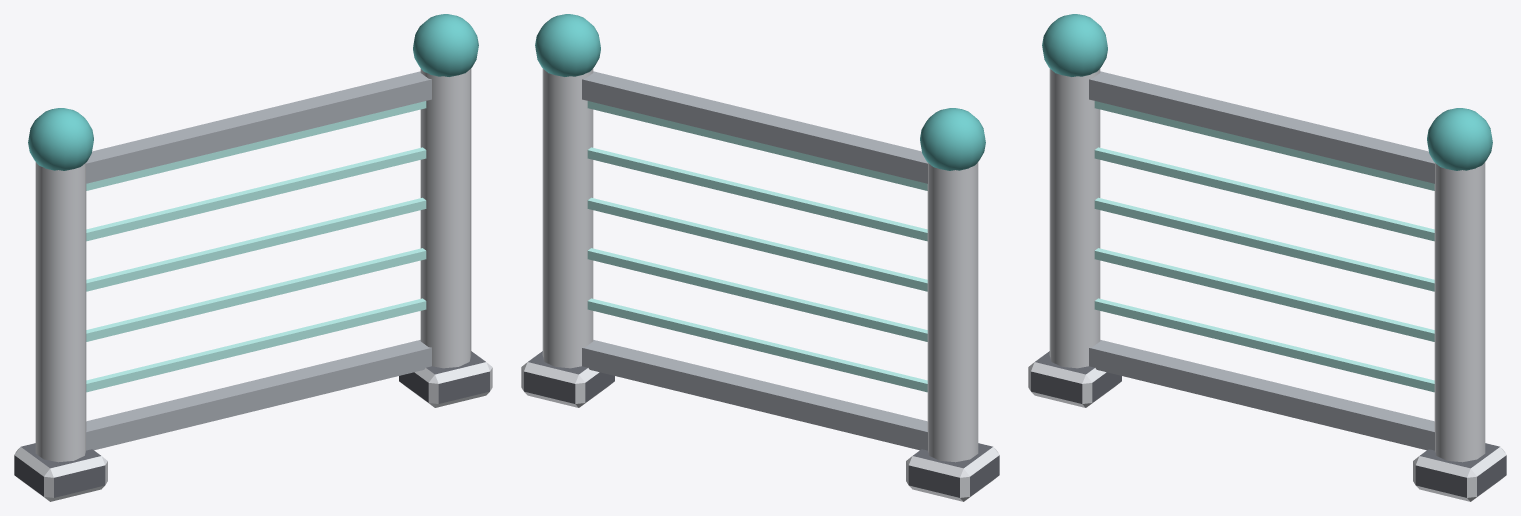
Rendered from ic_fence.glb.
3 views of the same model, side by side, from view 1: azimuth 30°, elevation 25°; view 2: azimuth 150°, elevation 25°; view 3: azimuth 330°, elevation 25° (orthographic).
Visible parts, largest first — view 1: ic_fence; view 2: ic_fence; view 3: ic_fence.
Part boxes in pixels (x1,y1,x2,y2): ic_fence: (14,14,492,501); ic_fence: (521,14,999,501); ic_fence: (1028,14,1506,501).
Bounding box in the file's own units: 2.8 × 2.23 × 0.4.
